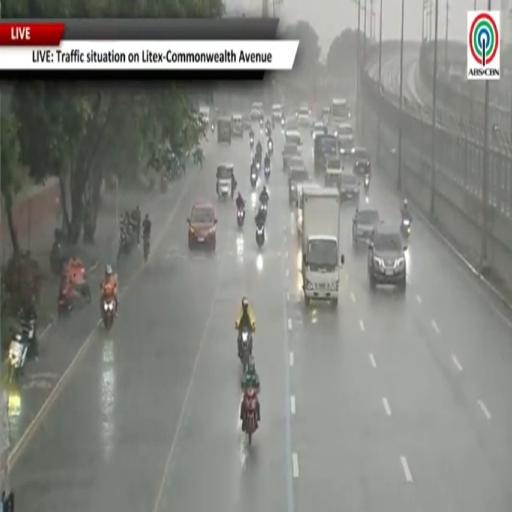car: (368, 230, 406, 291), (188, 202, 217, 250), (296, 182, 320, 236), (352, 208, 381, 246), (314, 135, 338, 173), (289, 165, 309, 203), (335, 123, 354, 158), (340, 172, 360, 202), (282, 143, 300, 170), (354, 148, 371, 175), (284, 155, 305, 173), (325, 155, 343, 172), (335, 123, 353, 140), (297, 106, 311, 126), (312, 121, 327, 139), (286, 131, 302, 147), (232, 114, 243, 136), (199, 106, 210, 126), (272, 104, 284, 122), (250, 108, 263, 122), (285, 118, 298, 131), (242, 115, 252, 131), (322, 106, 330, 124), (312, 130, 324, 140)
motorcycle: (58, 283, 91, 316), (8, 333, 29, 383), (50, 229, 72, 276), (243, 389, 257, 445), (240, 329, 252, 371), (119, 226, 136, 254), (102, 298, 115, 331), (400, 217, 411, 239), (256, 223, 264, 247), (160, 175, 169, 193), (237, 208, 245, 228), (259, 202, 267, 221), (143, 237, 149, 262), (250, 172, 258, 189), (264, 165, 270, 182), (364, 174, 369, 191), (268, 140, 273, 156), (265, 125, 270, 138), (259, 118, 263, 132), (256, 159, 260, 173), (250, 137, 254, 150), (281, 118, 285, 130), (211, 123, 214, 132)
truck: (302, 187, 344, 305)
